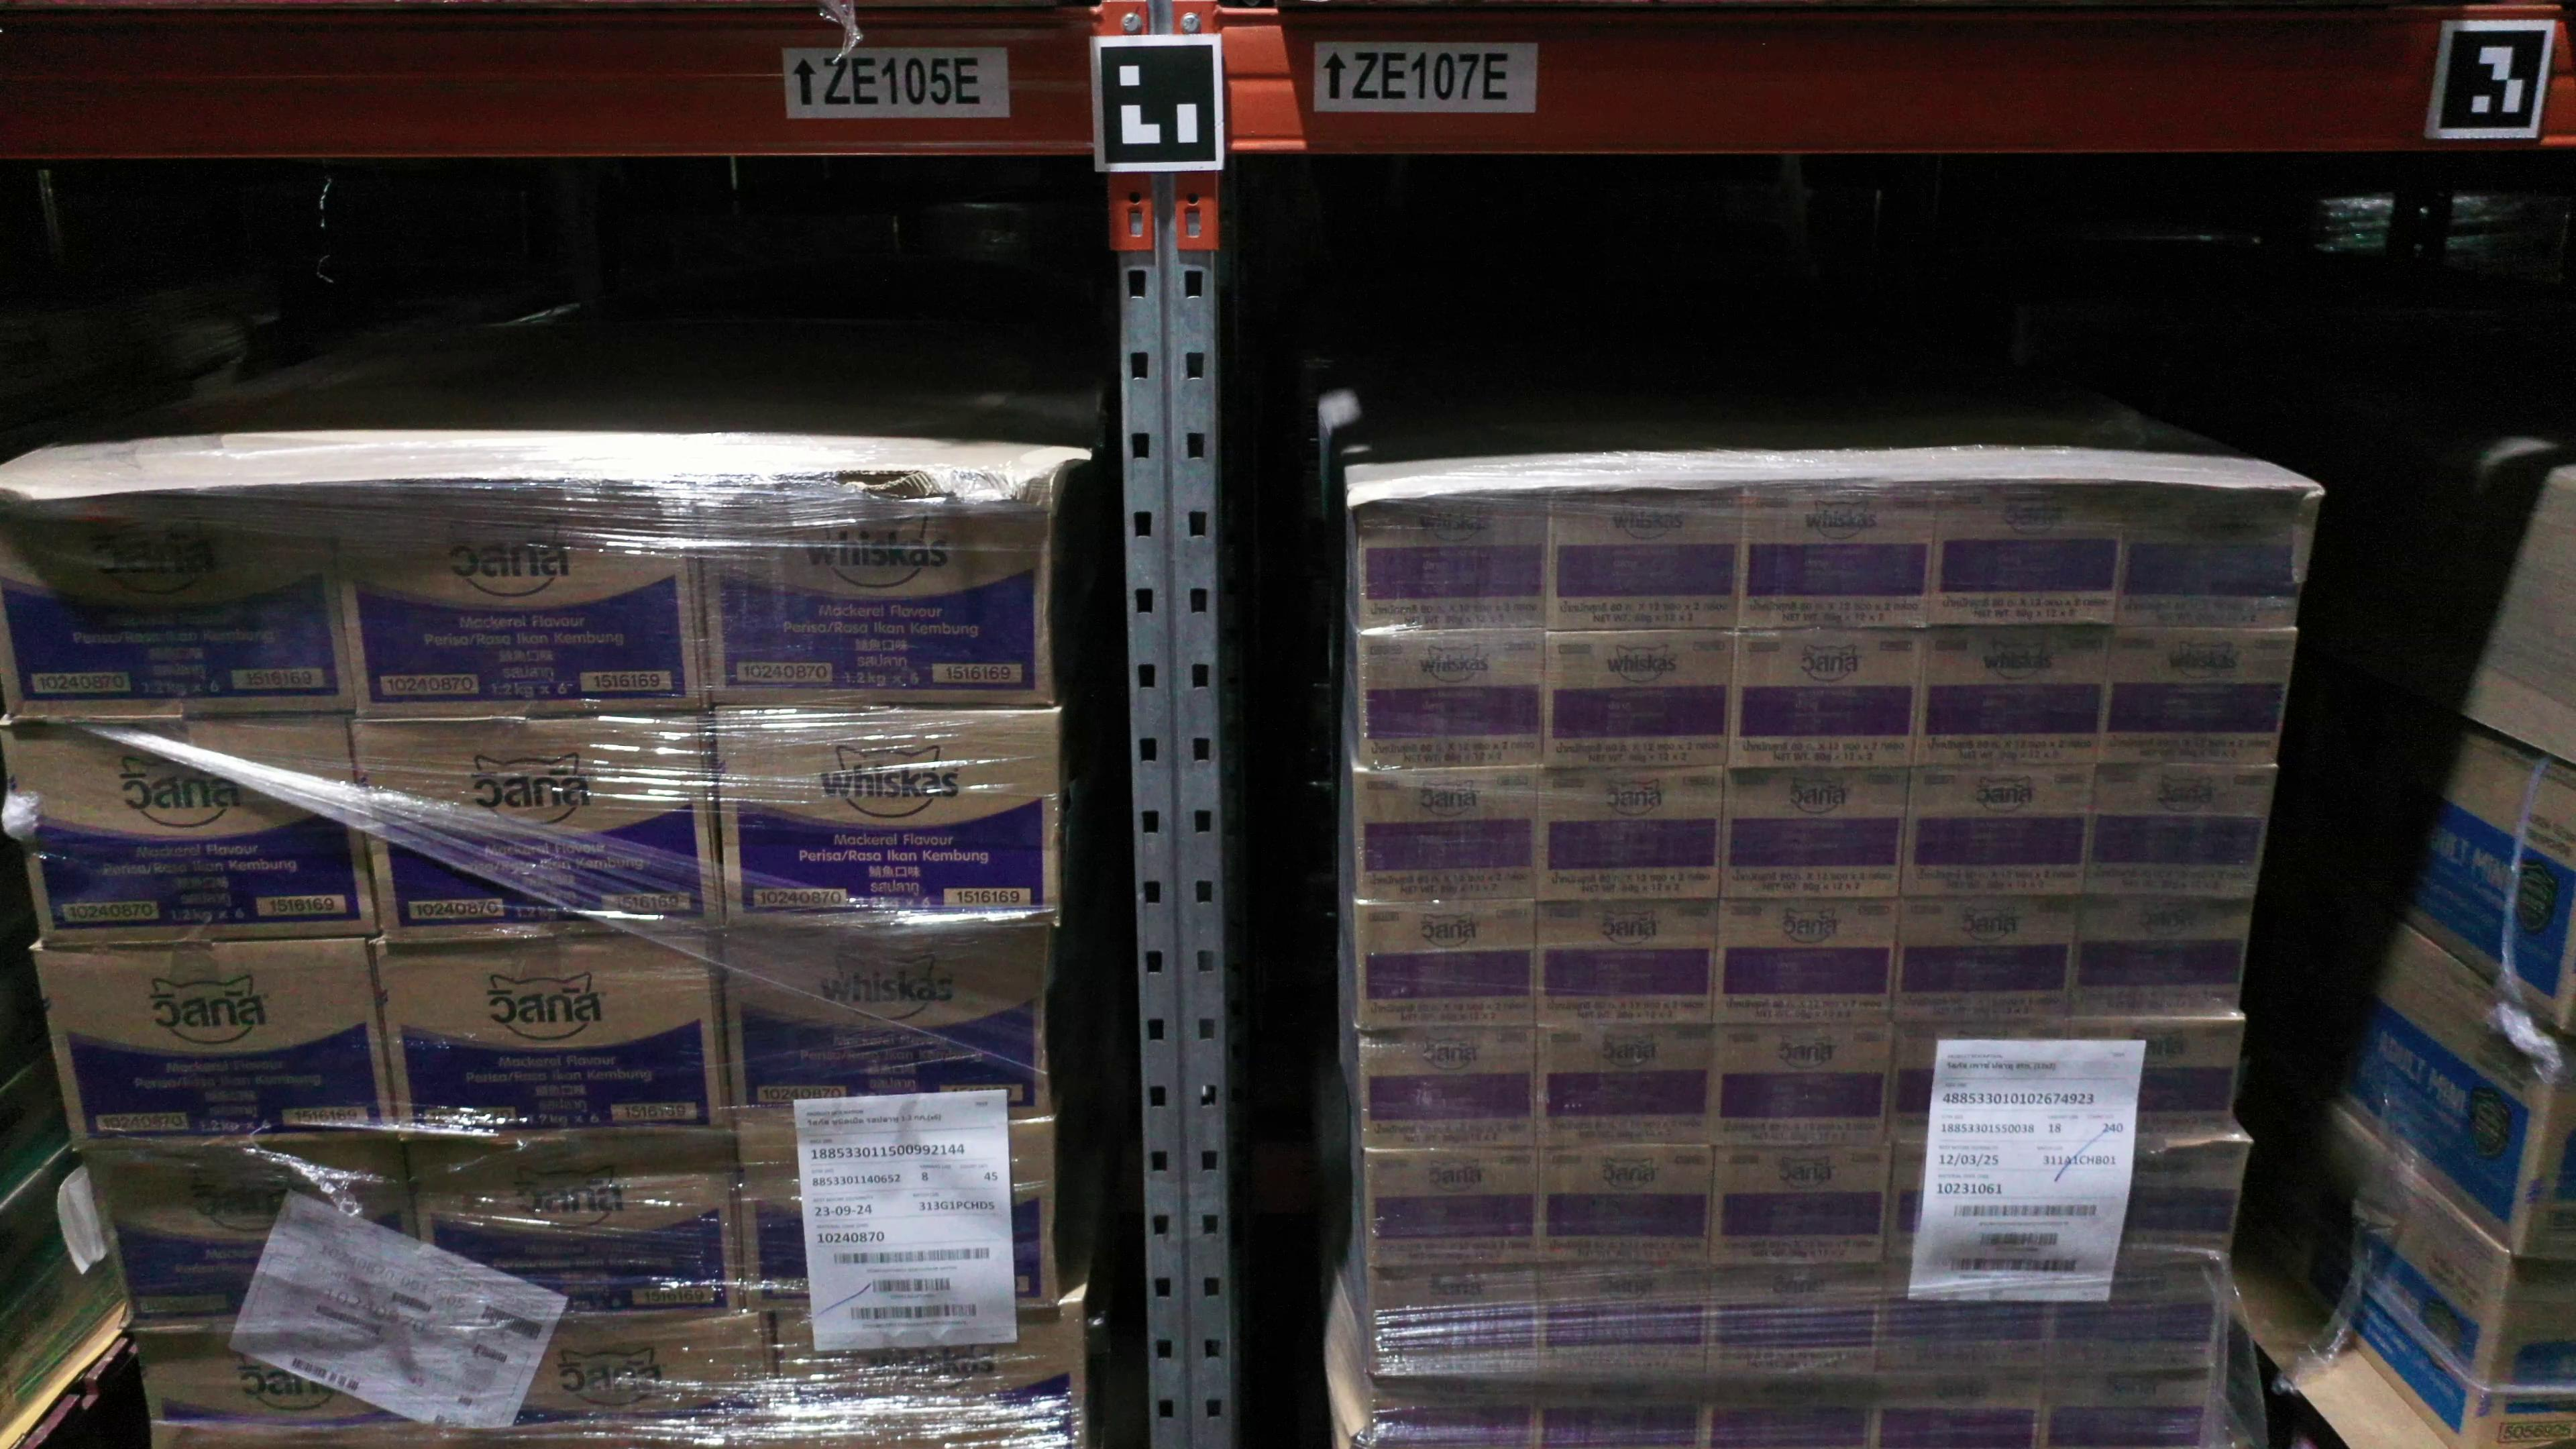-: (317, 474, 711, 720), (347, 709, 729, 943), (692, 472, 1056, 713), (713, 706, 1058, 934), (32, 938, 398, 1152), (372, 938, 727, 1141), (720, 922, 1053, 1132), (85, 1145, 432, 1332), (734, 1118, 1060, 1316), (409, 1132, 743, 1325), (771, 1304, 1085, 1447), (430, 1315, 778, 1426), (1927, 472, 2132, 632), (138, 1325, 442, 1431), (1732, 476, 1937, 630), (2118, 481, 2319, 632), (1543, 483, 1743, 633), (1911, 625, 2114, 770), (2097, 626, 2298, 770), (1357, 488, 1552, 635), (1725, 626, 1921, 770), (1357, 630, 1545, 773), (1543, 628, 1730, 771), (2082, 766, 2277, 902), (1900, 764, 2095, 899), (1536, 764, 1721, 902), (1716, 768, 1911, 899), (1353, 766, 1537, 902), (2052, 1141, 2250, 1265), (1713, 897, 1898, 1028), (1355, 899, 1536, 1033), (1534, 899, 1718, 1030), (1891, 897, 2079, 1023), (2066, 895, 2250, 1023), (1711, 1023, 1895, 1148), (2054, 1017, 2245, 1138), (1357, 1026, 1539, 1150), (1537, 1024, 1720, 1148), (1711, 1145, 1891, 1269), (1888, 1024, 2065, 1148), (1364, 1148, 1539, 1272), (1537, 1143, 1711, 1267), (2045, 1261, 2226, 1380), (2468, 1256, 2576, 1449), (1881, 1261, 2054, 1380), (1704, 1269, 1886, 1380), (1886, 1150, 2056, 1269), (1369, 1267, 1539, 1384), (1539, 1267, 1714, 1380), (2511, 1031, 2576, 1261), (1865, 1376, 2043, 1449), (2042, 1375, 2212, 1449), (1700, 1378, 1874, 1449), (1369, 1376, 1536, 1449), (1534, 1380, 1706, 1449)
